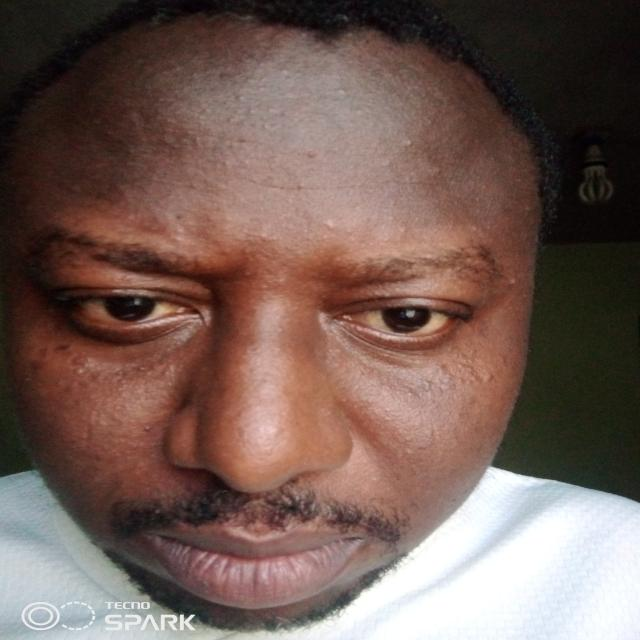Acne: (410, 350, 510, 397), (54, 354, 96, 393), (244, 229, 280, 245), (320, 216, 344, 237), (126, 361, 150, 379), (398, 136, 418, 152), (304, 147, 326, 161), (267, 69, 295, 80), (401, 433, 413, 458), (132, 425, 154, 438), (505, 272, 519, 290), (329, 86, 346, 100), (234, 87, 248, 103)
Wrinkles: (233, 176, 440, 196), (150, 130, 298, 148), (115, 172, 213, 195)
